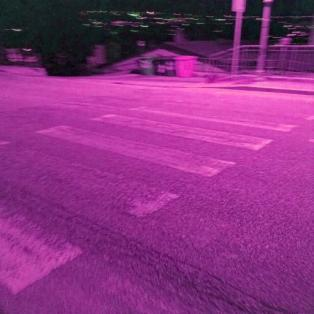Paso de Cebra: (23, 110, 275, 180)
